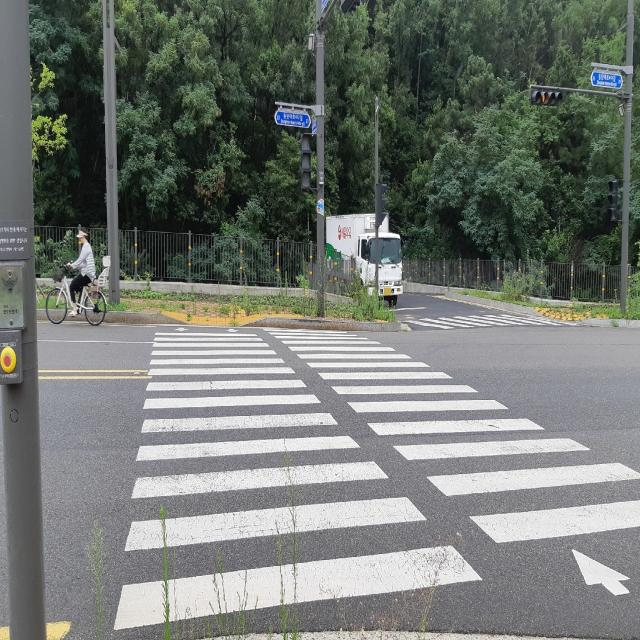횡단보도: (108, 320, 639, 640)
